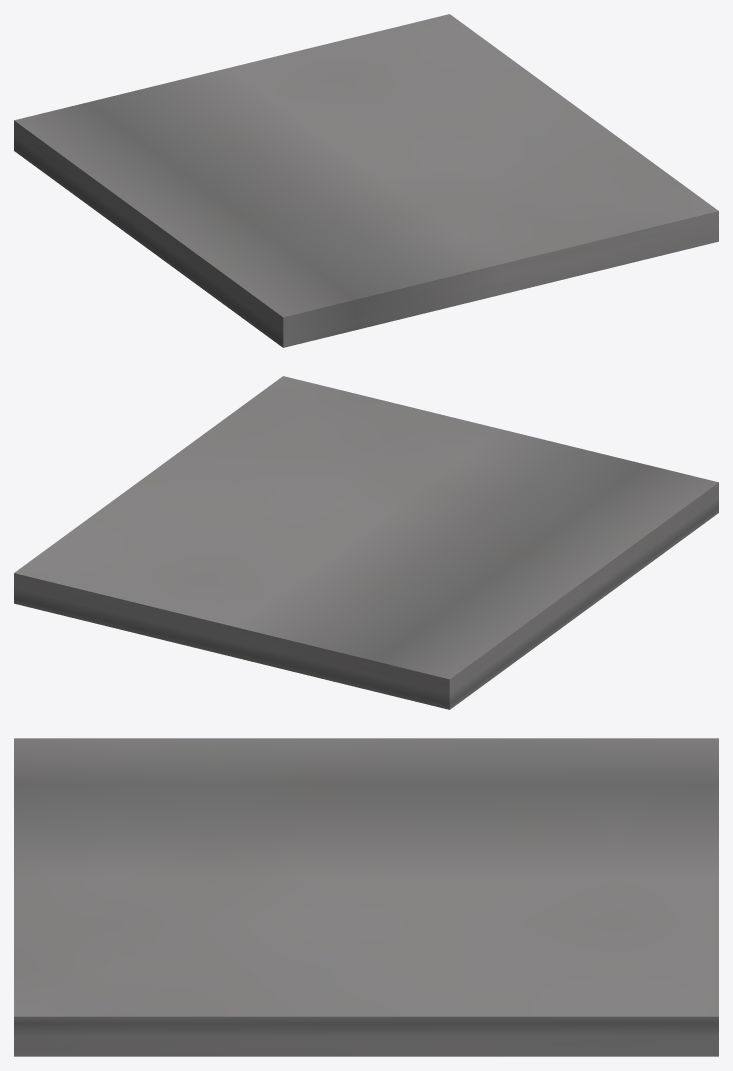
The model's file is pz_g020_trashcontainers_01_wall_bin.obj.
3 renders of one model, top to bottom at view 1: azimuth 30°, elevation 25°; view 2: azimuth 150°, elevation 25°; view 3: azimuth 270°, elevation 25°, orthographic. The views are drawn at different scales.
Visible parts, largest first — view 1: wall_bin_panel_front, wall_bin_panel_top, wall_bin_panel_right; view 2: wall_bin_panel_front, wall_bin_panel_bottom, wall_bin_panel_right; view 3: wall_bin_panel_front, wall_bin_panel_left.
Part boxes in pixels (<box>): wall_bin_panel_front: <box>14,14,718,317</box>; wall_bin_panel_top: <box>283,211,718,347</box>; wall_bin_panel_right: <box>14,120,283,347</box>; wall_bin_panel_front: <box>14,376,718,679</box>; wall_bin_panel_bottom: <box>14,573,449,709</box>; wall_bin_panel_right: <box>449,482,718,709</box>; wall_bin_panel_front: <box>14,738,718,1016</box>; wall_bin_panel_left: <box>14,1016,718,1056</box>.
Size of the model in its own units: 1 by 0.096 by 1.07.
Materials: 1 (1 with a texture image).
